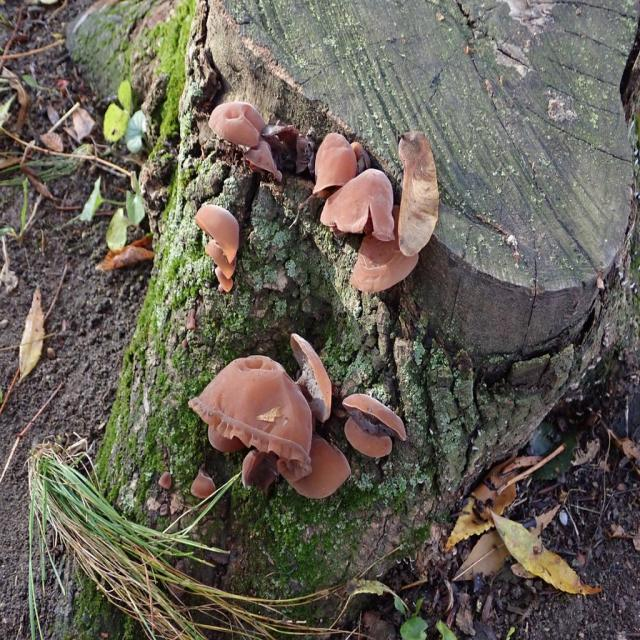Fase Muda: (314, 167, 399, 245), (351, 208, 421, 298), (340, 387, 416, 468), (287, 328, 335, 426), (192, 200, 248, 277), (292, 432, 352, 503), (207, 97, 265, 148), (312, 131, 356, 192), (242, 446, 280, 497), (206, 419, 248, 457), (245, 146, 282, 184)
Matang: (188, 348, 314, 487), (262, 118, 317, 184)
primordia: (191, 469, 217, 503), (213, 264, 234, 302), (158, 469, 172, 493)
